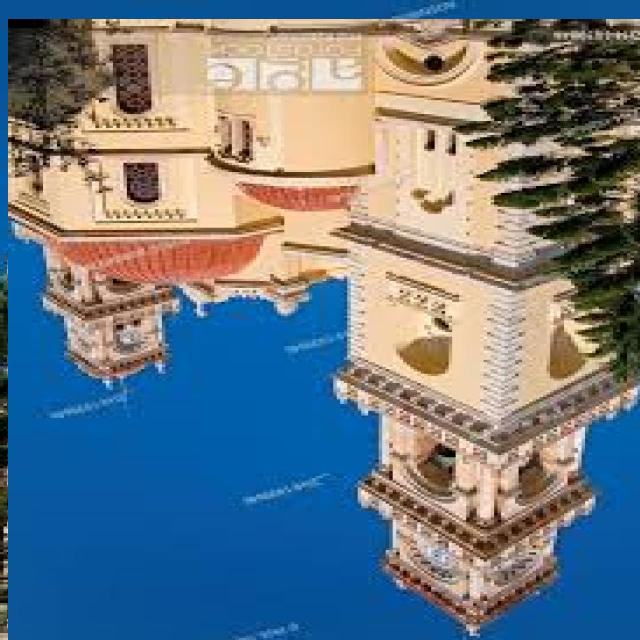Agios Minas: (9, 20, 640, 640)
